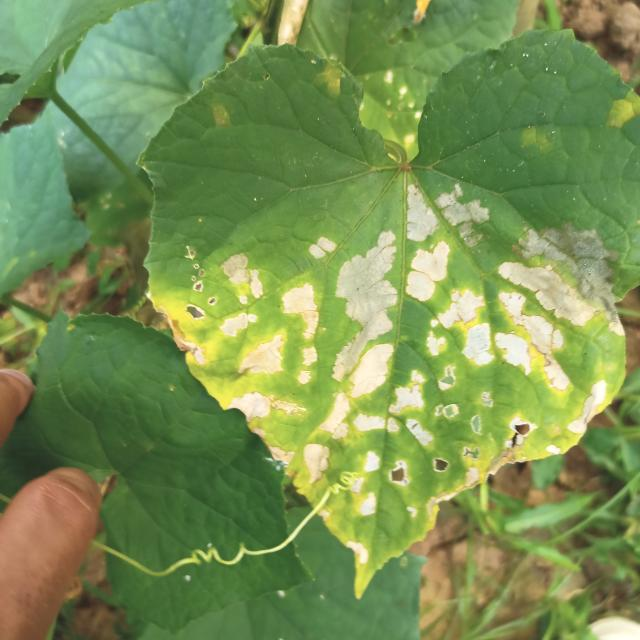disease_cucumber: (194, 178, 628, 556), (603, 90, 639, 140)
